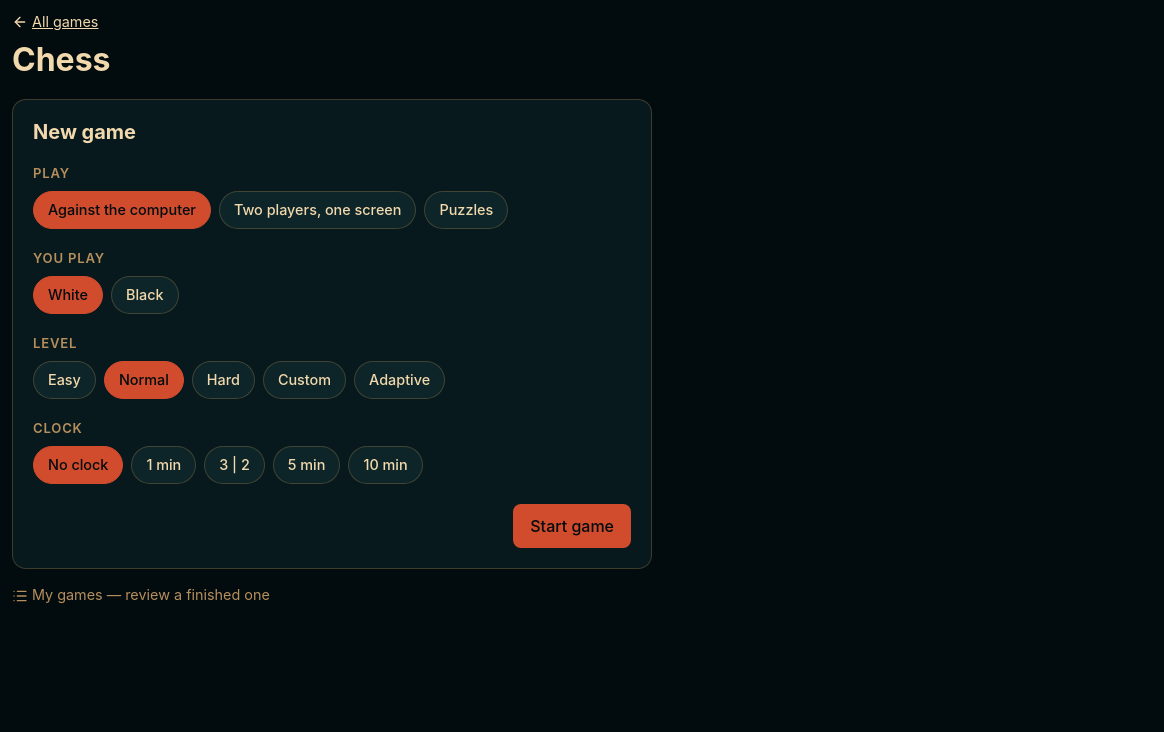
ChessPage › plays the adaptive computer at the strength the server suggests
The width and height of the screenshot is (1164, 732).
Click the button "Against the computer" at (122, 210), box [33,191,211,229]
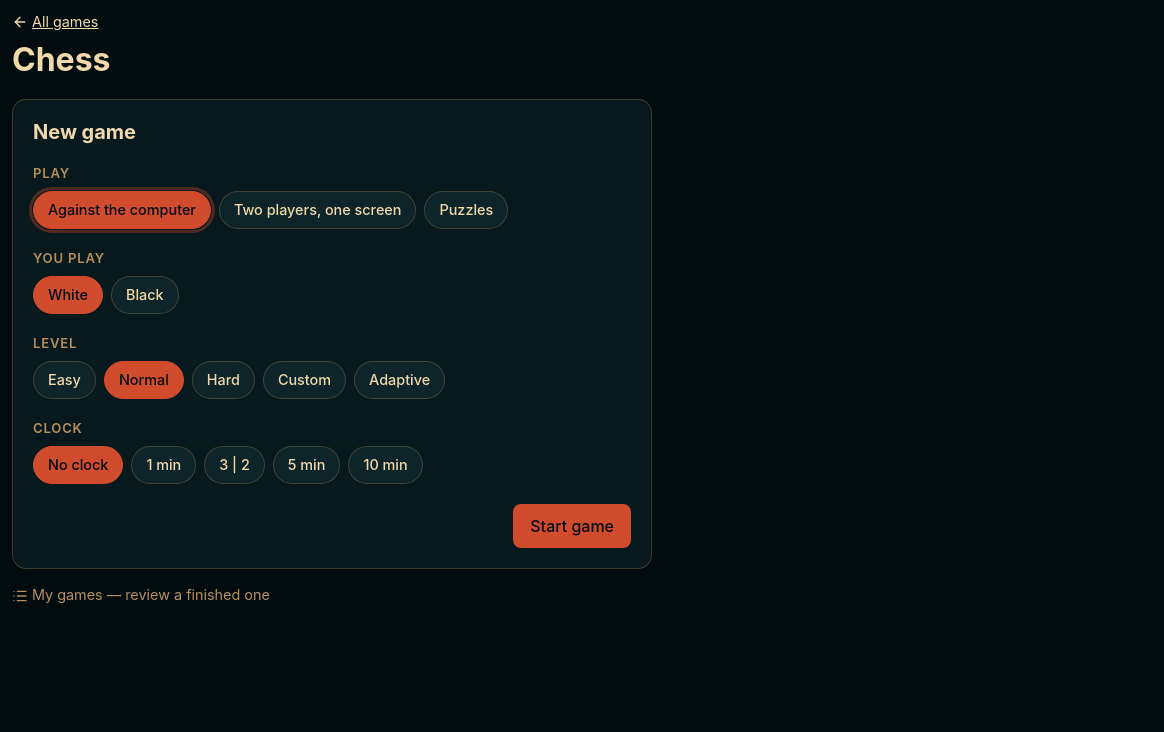
Click the button "Adaptive" at (400, 380), box [354,361,445,399]
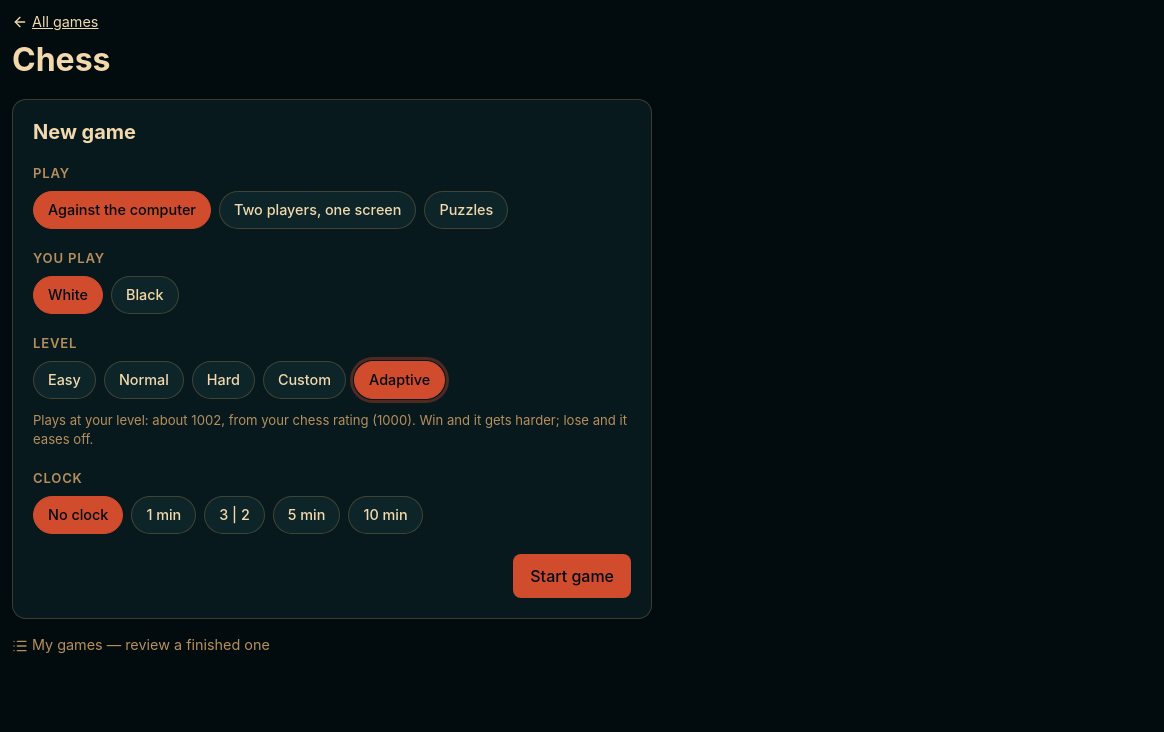
Expected: the text "Plays at your level: about 1002" is shown, [33,412,627,447]
Click the button "Start game" at (572, 576), box [513,554,631,598]
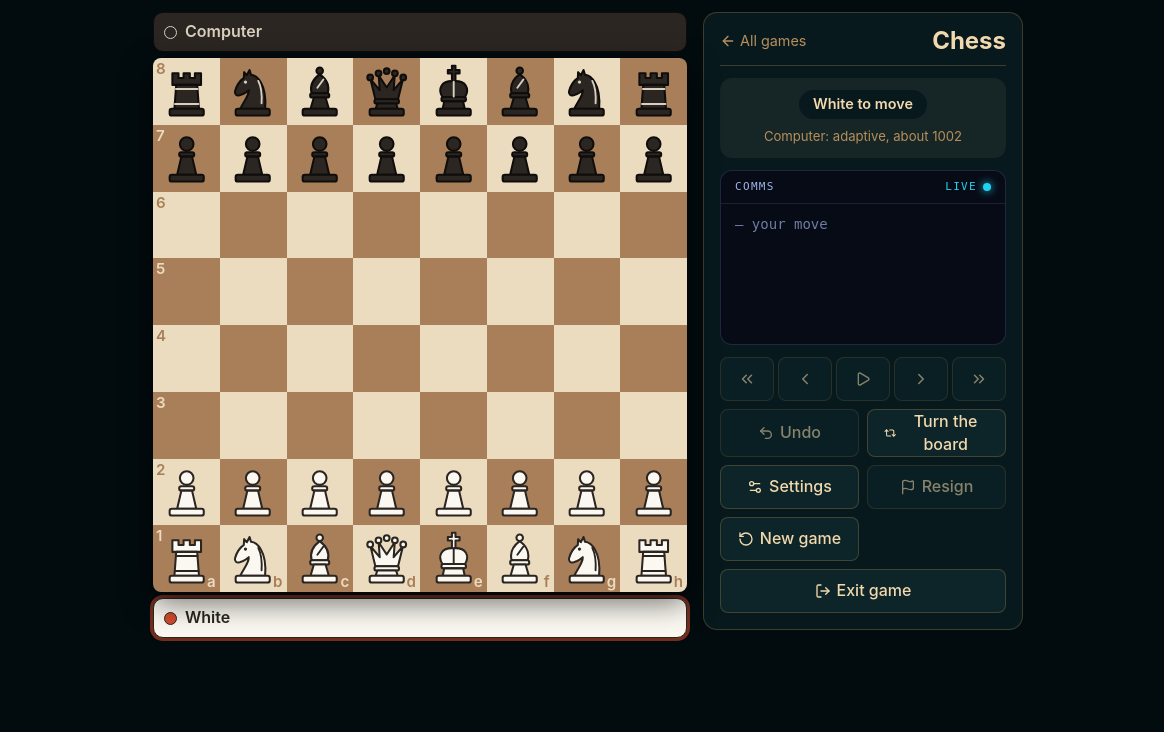
Expected: the text "Computer: adaptive, about 1002" is shown, [764,127,962,146]
